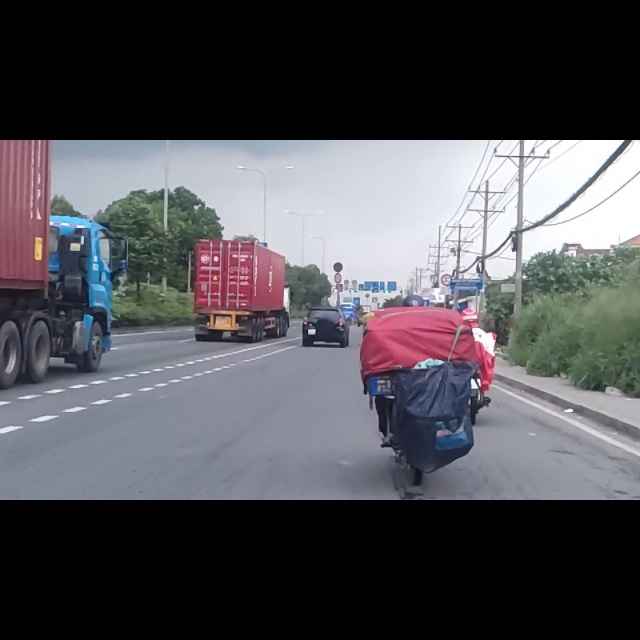bien_chi_dan: (441, 237, 453, 260), (333, 217, 344, 235)
